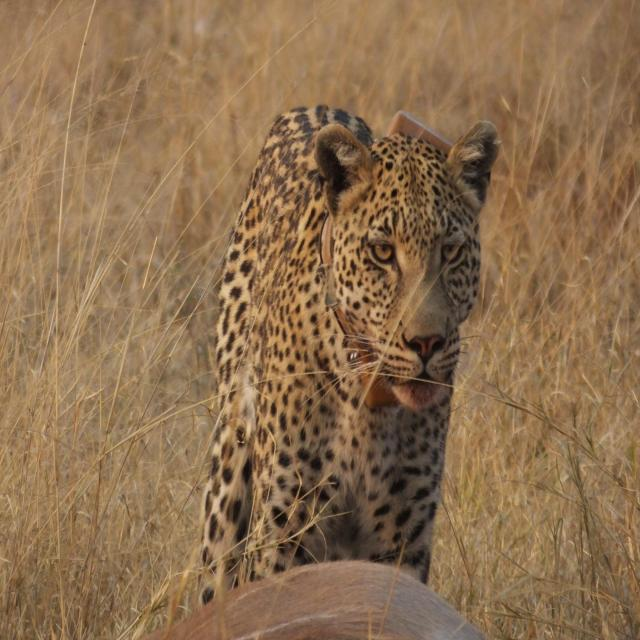Leopard: (216, 85, 507, 630)
